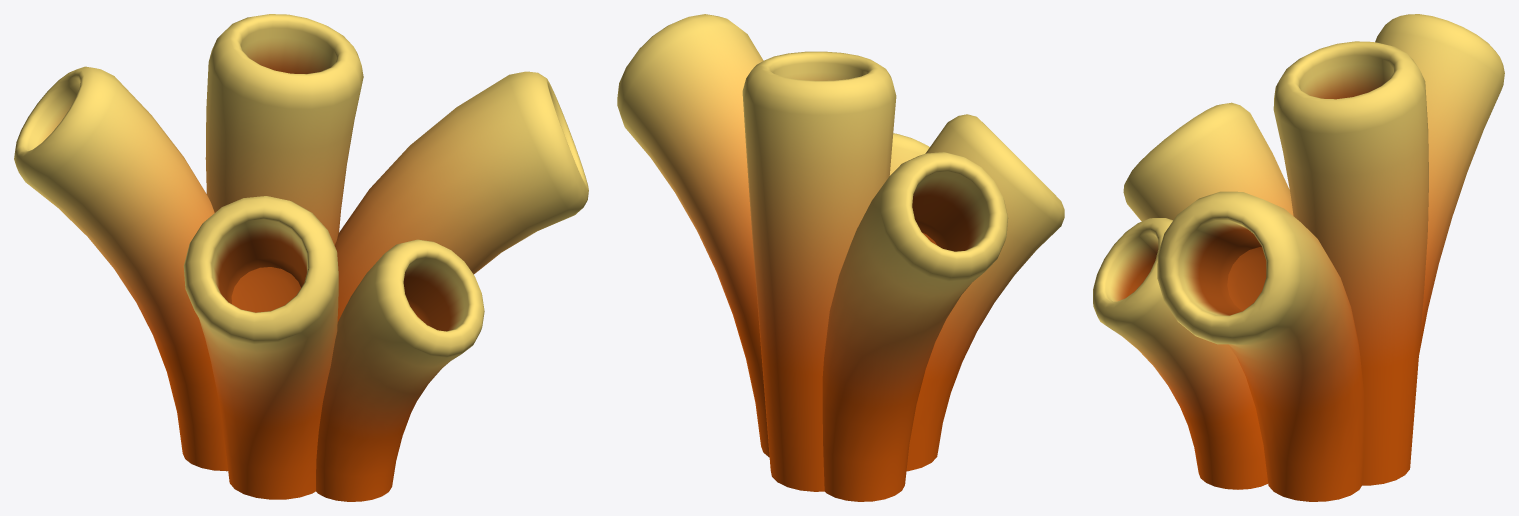
The model's file is SM_Coral_Bunch02.fbx.
The picture shows the model from 3 angles, left to right: view 1: azimuth 30°, elevation 25°; view 2: azimuth 150°, elevation 25°; view 3: azimuth 270°, elevation 25°; orthographic projection.
Parts seen in each view (by area): view 1: Coral_Base8, Coral_Base4, Coral_Base6, Coral_Base7, Coral_Base5; view 2: Coral_Base7, Coral_Base8, Coral_Base6, Coral_Base4, Coral_Base5; view 3: Coral_Base7, Coral_Base6, Coral_Base5, Coral_Base8, Coral_Base4.
Boxes of the visible parts, x1,y1,x2,y2 form: Coral_Base8: [14, 66, 228, 471]; Coral_Base4: [183, 196, 338, 499]; Coral_Base6: [334, 71, 588, 321]; Coral_Base7: [205, 14, 363, 244]; Coral_Base5: [316, 239, 484, 501]; Coral_Base7: [742, 51, 896, 491]; Coral_Base8: [822, 152, 1008, 501]; Coral_Base6: [617, 14, 769, 457]; Coral_Base4: [906, 114, 1064, 471]; Coral_Base5: [889, 133, 929, 175]; Coral_Base7: [1273, 41, 1428, 485]; Coral_Base6: [1157, 191, 1364, 501]; Coral_Base5: [1093, 218, 1268, 489]; Coral_Base8: [1375, 14, 1504, 354]; Coral_Base4: [1123, 102, 1293, 221].
Size of the model in its own units: 3.09 by 2.61 by 2.4.
1 material, 1 textured.
